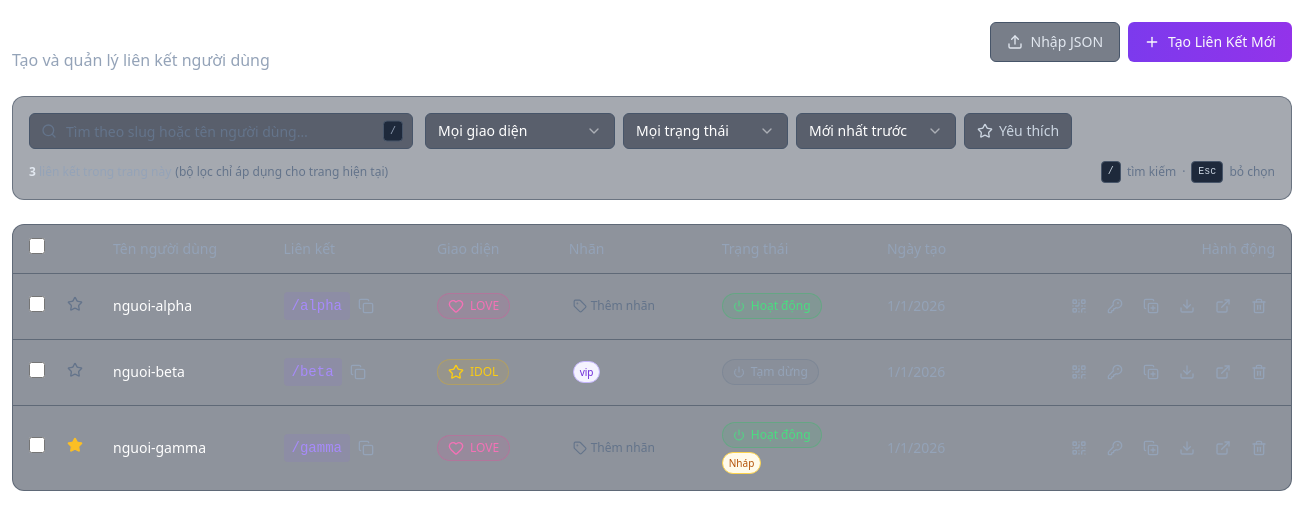
Scenario: LinksTable — thao tác hàng loạt › chỉ chọn những dòng đang hiển thị sau khi lọc
Type "beta" into the field labelled "Tìm theo slug hoặc tên người dùng…".
click(221, 131); type("beta")  # box x1=29 y1=113 x2=413 y2=149
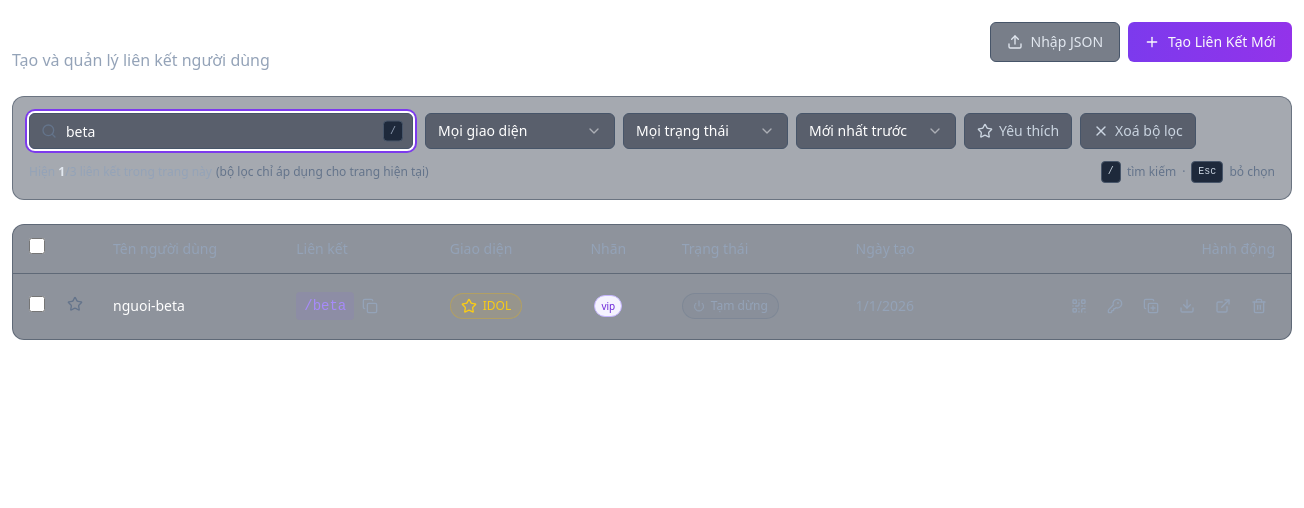
Click the checkbox named "Chọn tất cả liên kết đang hiển thị".
click(37, 246)  # box x1=29 y1=238 x2=45 y2=254
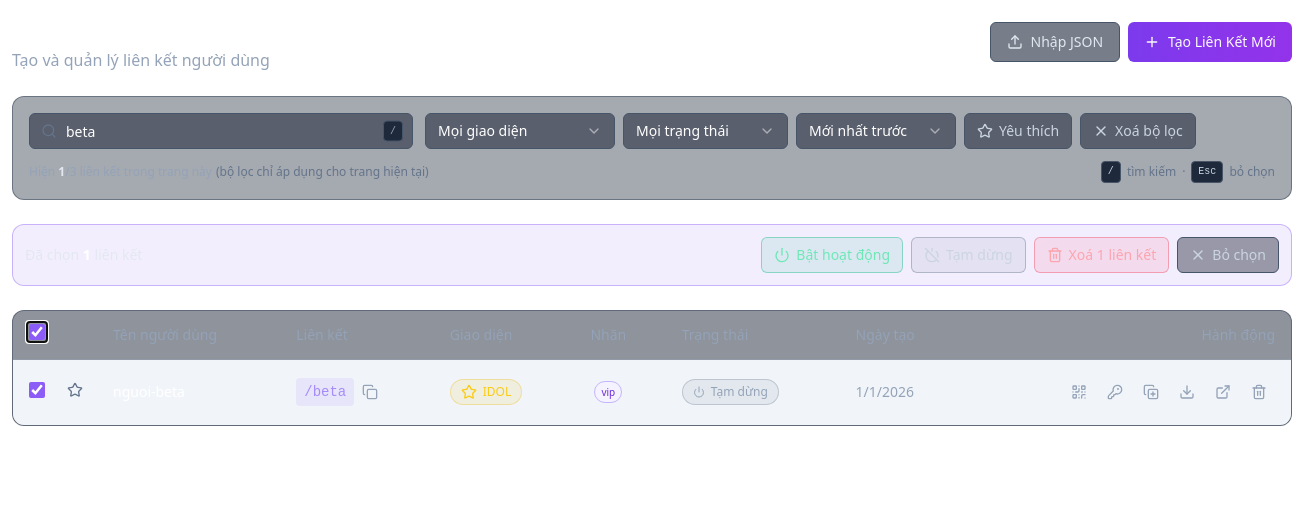
Expected: the button "Xoá 1 liên kết" is shown, x1=1034 y1=237 x2=1169 y2=273
